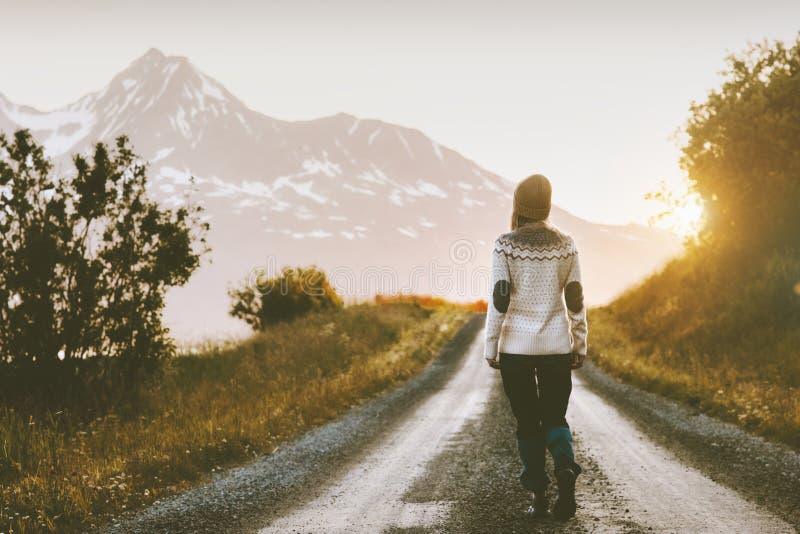Person: (483, 169, 605, 523)
